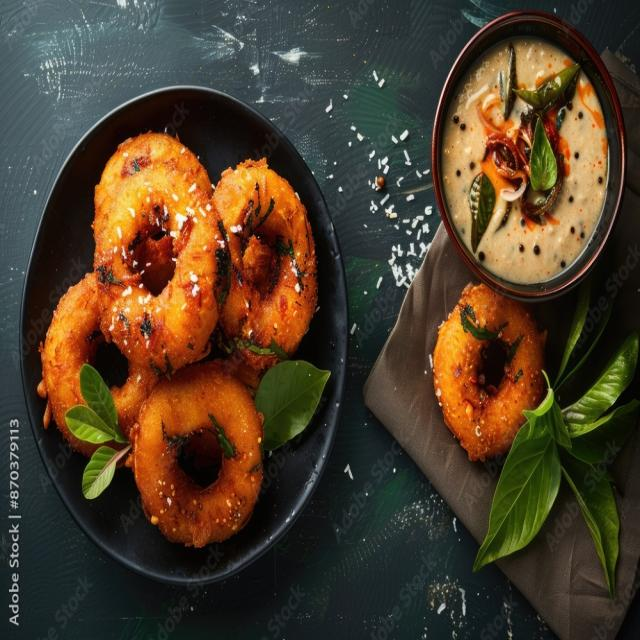MEDU VADA: (42, 131, 320, 543), (433, 293, 548, 458)
